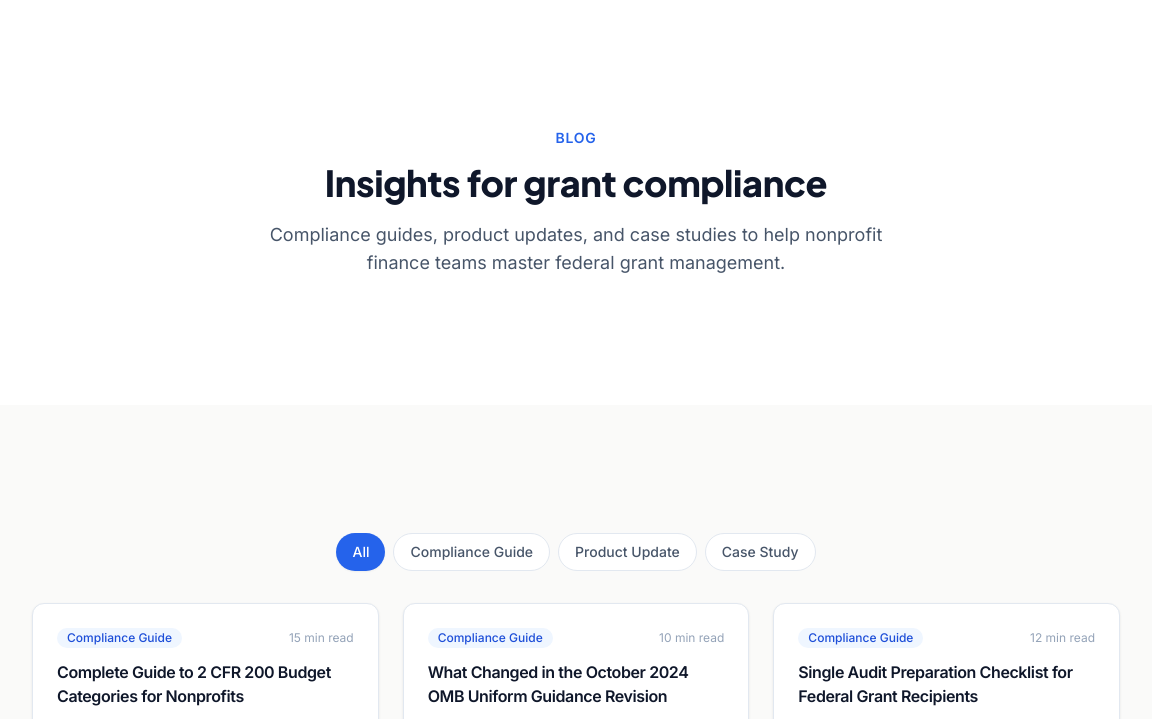
BlogIndexPage › shows all articles when All filter is selected
Click the button "Case Study" at (760, 552), box [705, 533, 816, 571]
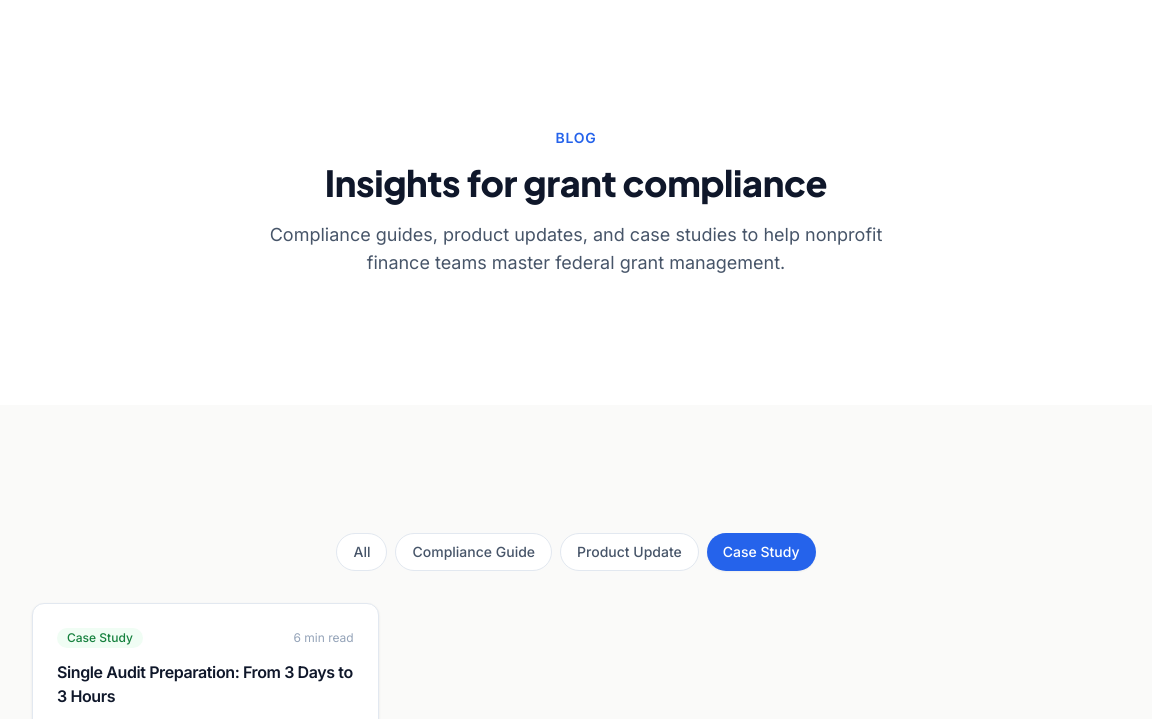
Click the button "All" at (362, 552), box [336, 533, 388, 571]
(page scrolled)
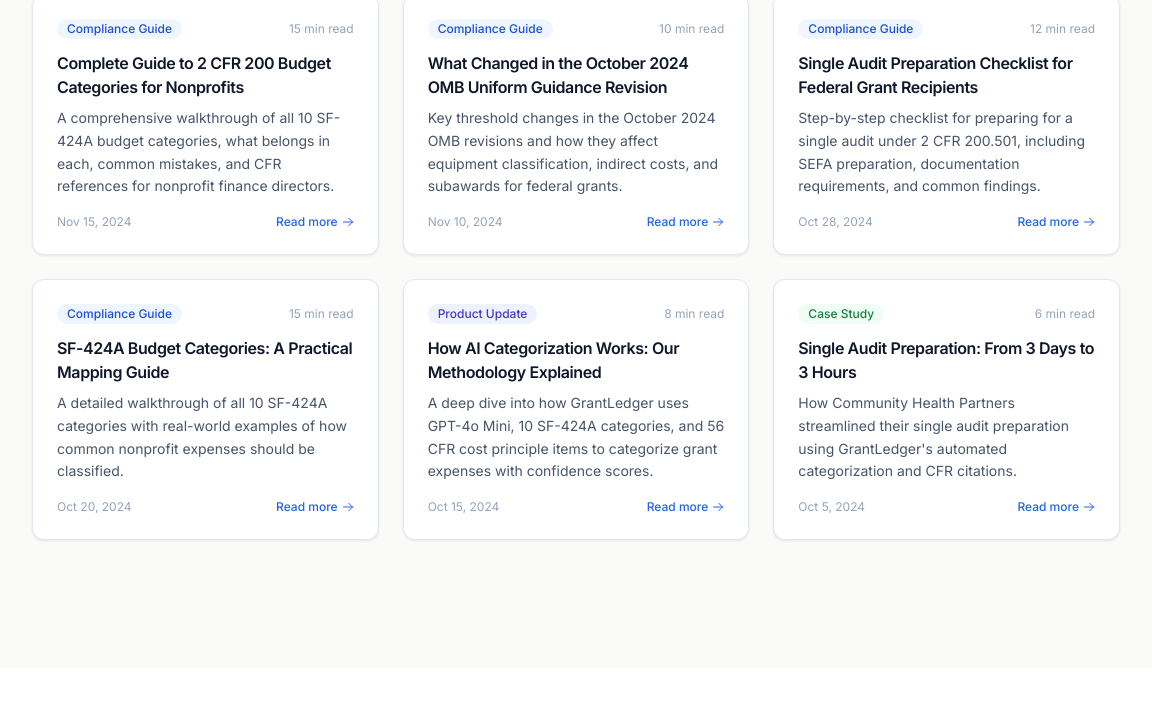
Expected: the heading "Single Audit Preparation: From 3 Days to 3 Hours" is shown, [798, 336, 1095, 384]
Expected: the heading "Complete Guide to 2 CFR 200 Budget Categories for Nonprofits" is shown, [57, 51, 354, 99]
